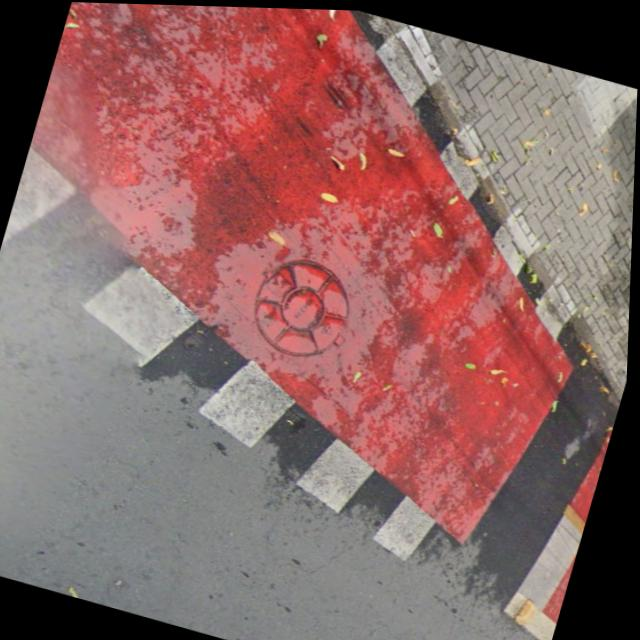Bueiro: (226, 232, 378, 372)
